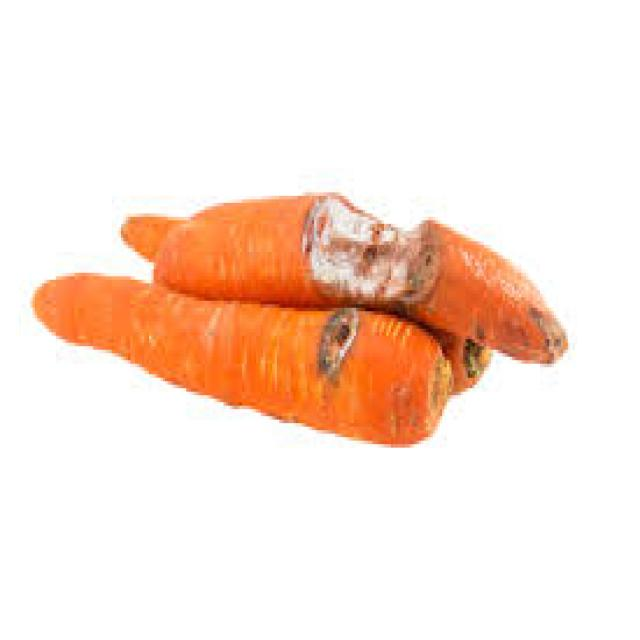Stale_Carrot: (153, 197, 574, 368), (30, 275, 441, 439)
